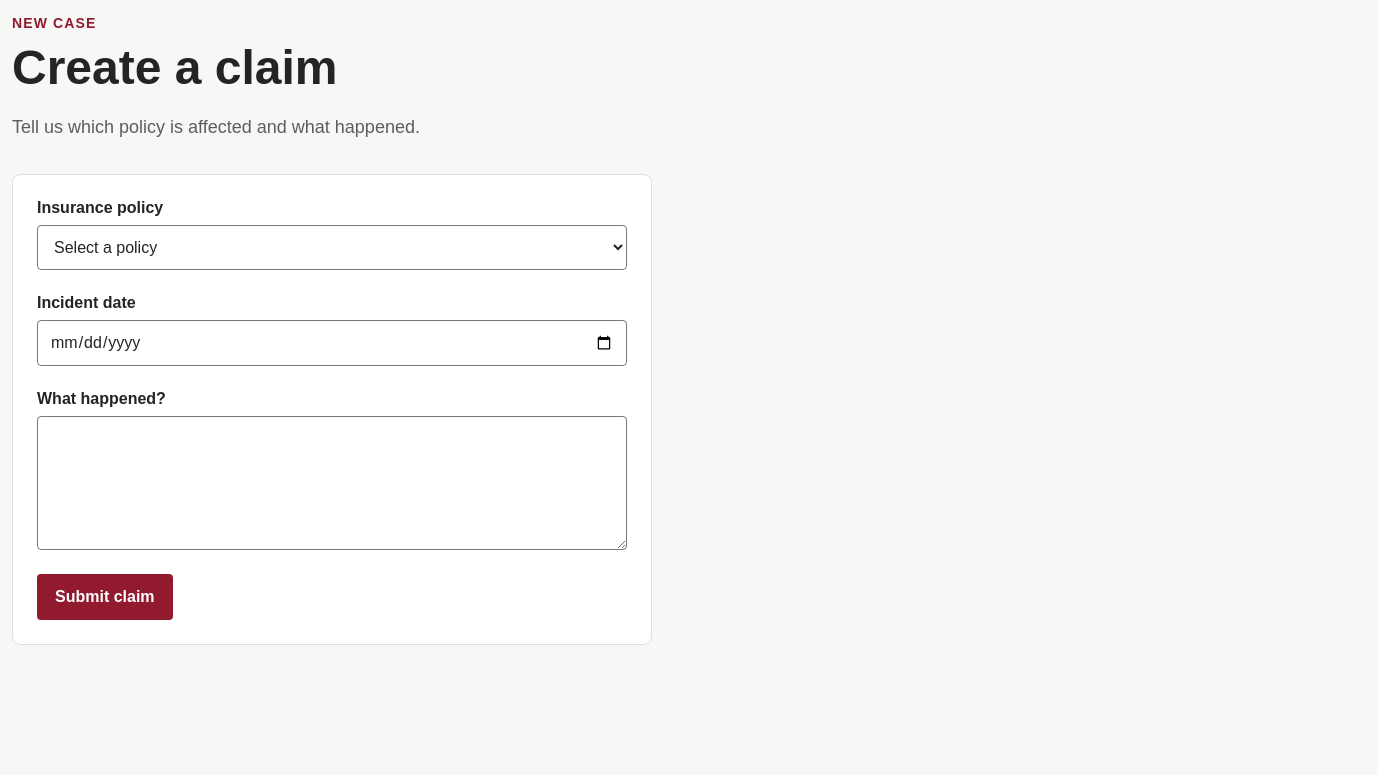
CreateClaimPage › shows accessible errors when the form is submitted empty
Click the button "Submit claim". click: (105, 597)
box: x1=37 y1=574 x2=173 y2=620
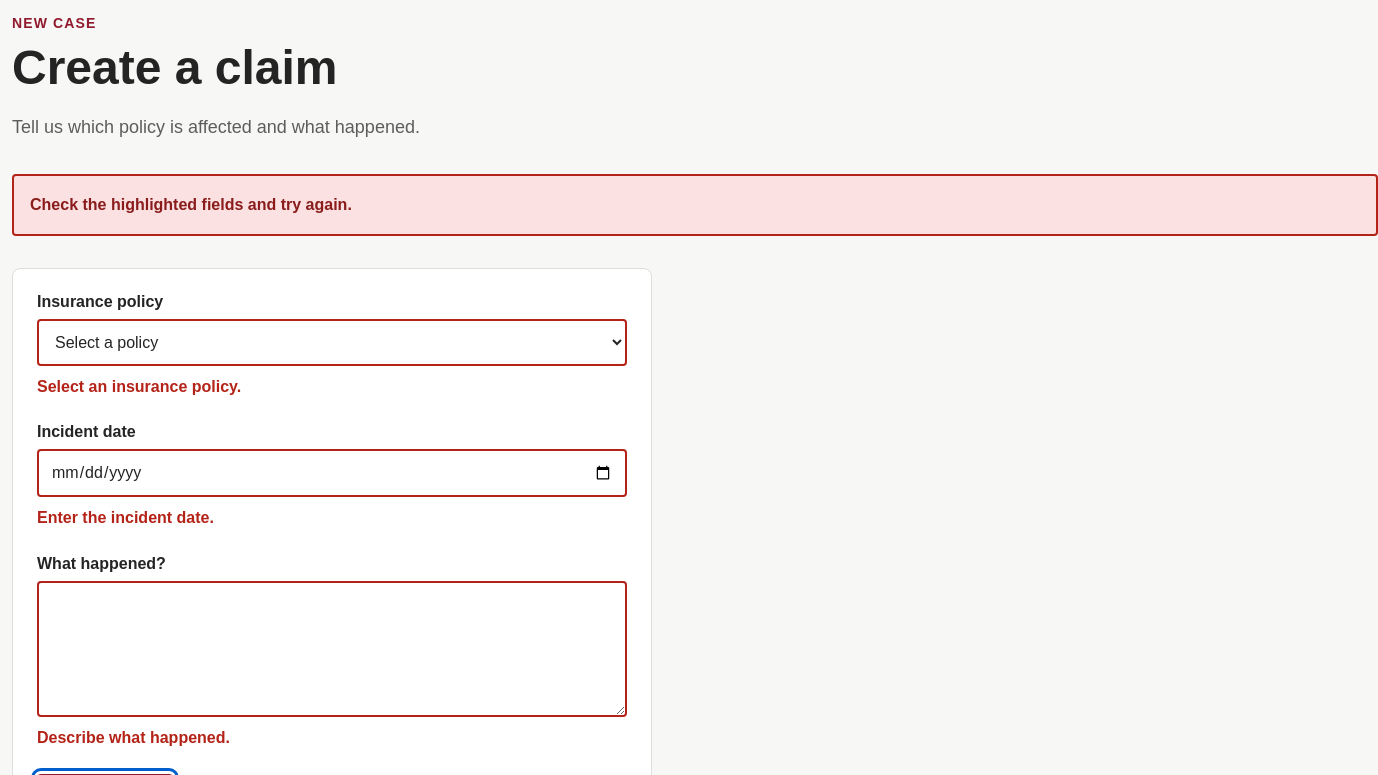
Now the message reads "Check the highlighted fields and try again.", box x1=30 y1=196 x2=352 y2=213
Now the text "Select an insurance policy." is shown, box x1=37 y1=378 x2=241 y2=395
Now the text "Enter the incident date." is shown, box x1=37 y1=509 x2=214 y2=526
